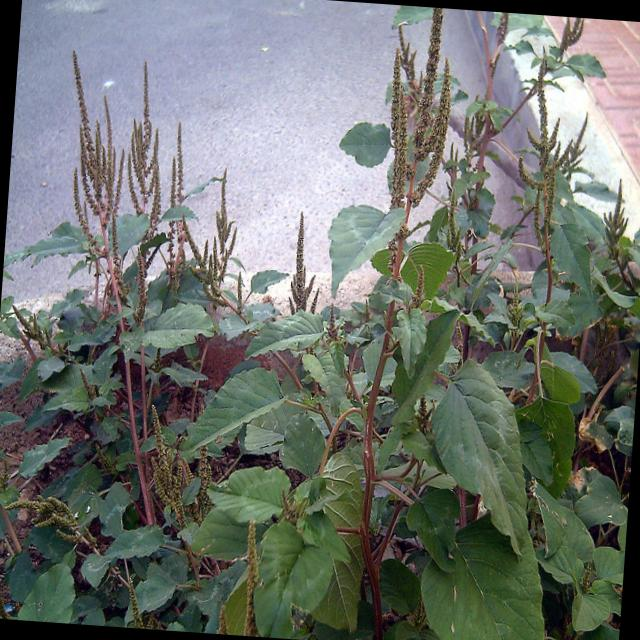Medicinal-Arive Dantu: (225, 376, 561, 640), (17, 41, 255, 410), (312, 0, 486, 331), (496, 29, 640, 345)
